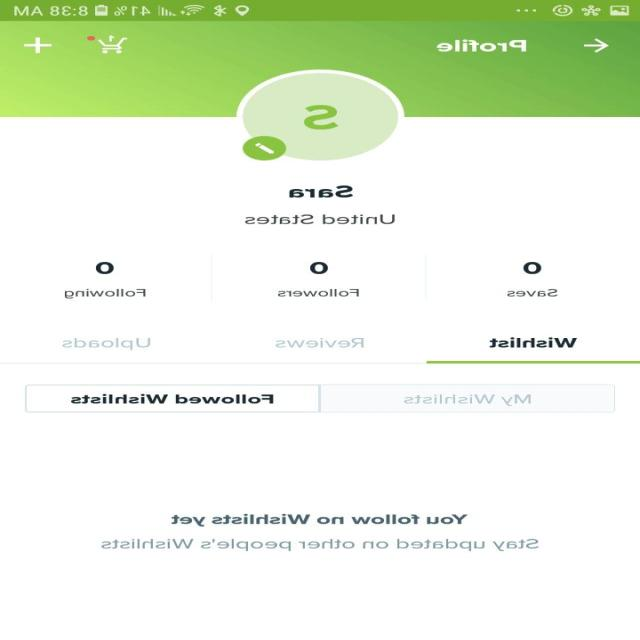Icon: (242, 135, 288, 161), (88, 35, 129, 54), (23, 38, 52, 53), (584, 39, 610, 53)
Image: (237, 69, 406, 160)
Text: (101, 538, 540, 551), (172, 513, 468, 526), (245, 214, 396, 224), (437, 39, 528, 52), (63, 337, 152, 350), (489, 337, 577, 348), (65, 288, 147, 299), (276, 338, 364, 348), (289, 185, 354, 197), (278, 288, 360, 296), (507, 288, 558, 296), (310, 261, 329, 274), (96, 261, 115, 274), (524, 261, 542, 274)
TextButton: (320, 384, 615, 412), (26, 384, 320, 412)
